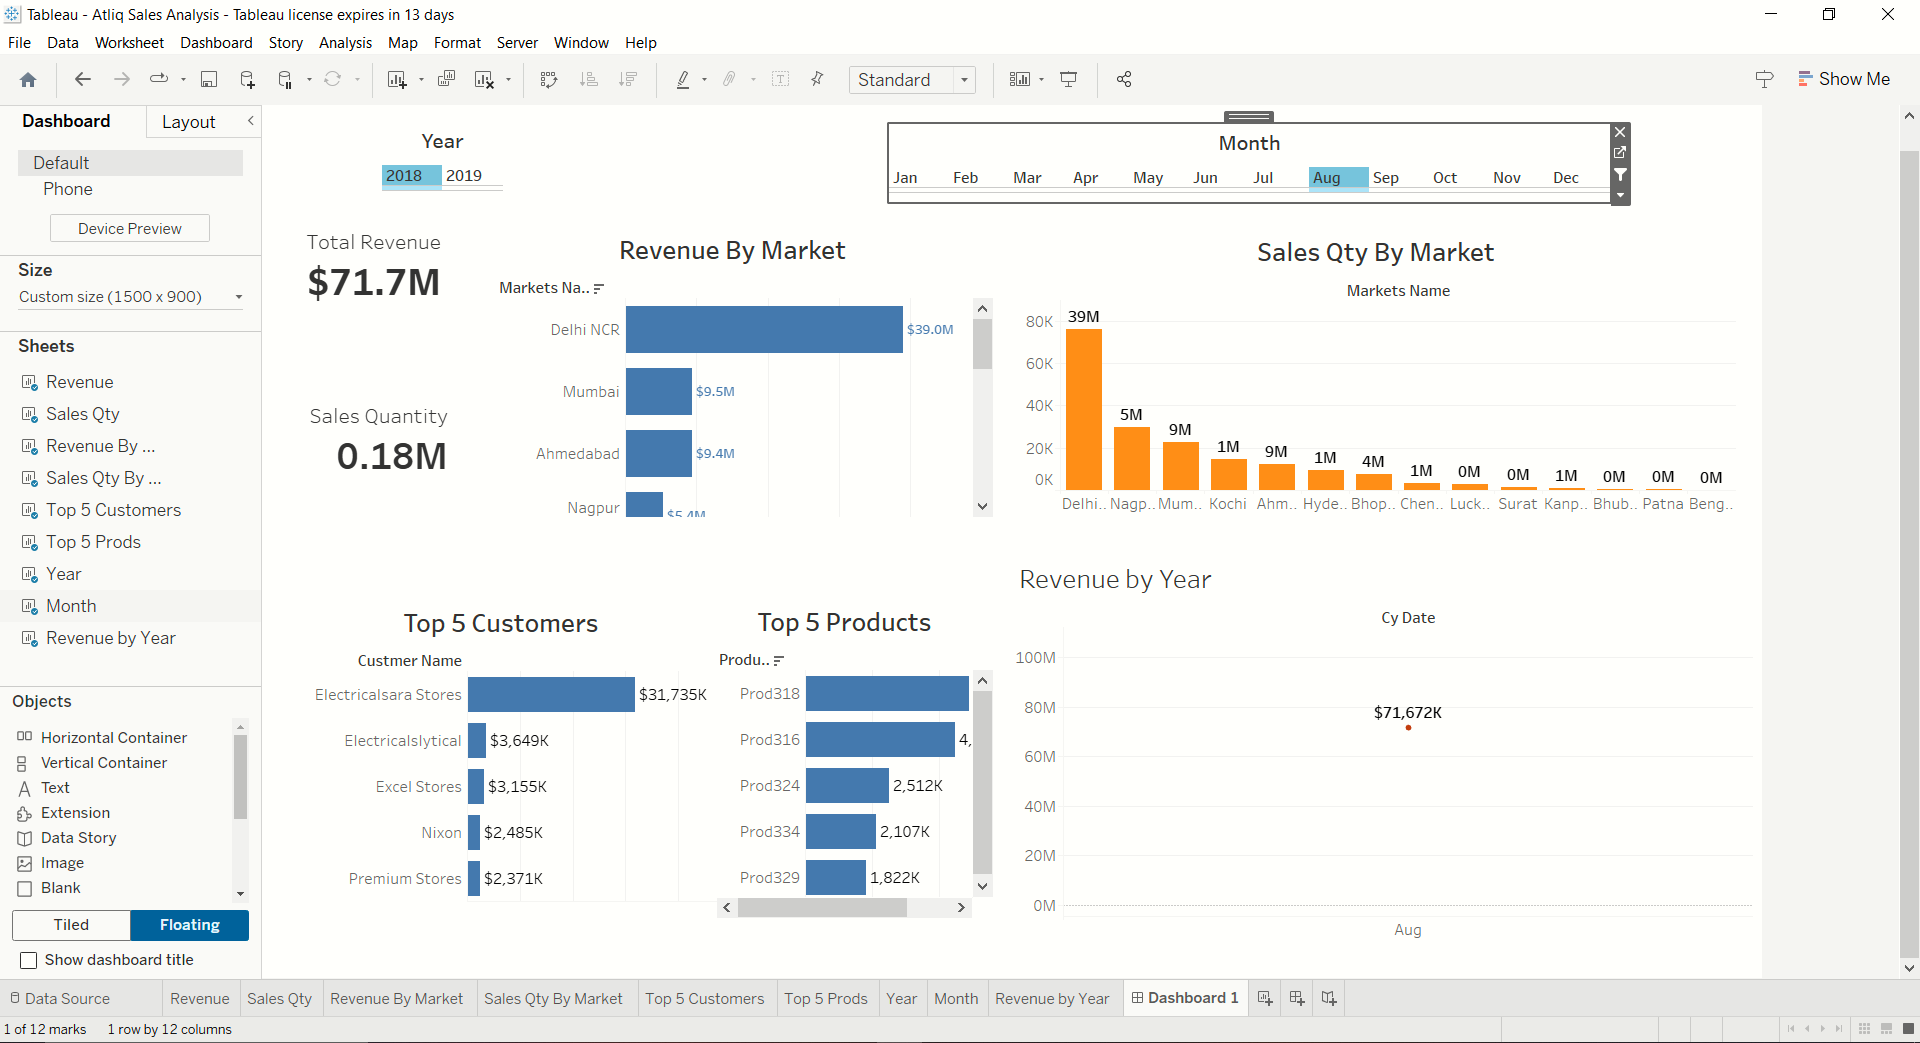

What the dashboard file says about the page in this screenshot:
{"tool":"tableau","page":{"name":"Dashboard 1","canvas":[1500,900],"ordinal":0},"visuals":[{"type":"worksheet","title":"Year","mark":"Automatic","cols":["cy_date"],"box":[120,44,246,79]},{"type":"worksheet","title":"Month","mark":"Automatic","cols":["cy_date"],"box":[627,46,721,78]},{"type":"worksheet","title":"Revenue","mark":"Automatic","box":[23,149,184,84]},{"type":"worksheet","title":"Revenue By Market","mark":"Automatic","rows":["markets_name"],"cols":["Calculation_289356319316553728"],"box":[231,150,500,289]},{"type":"worksheet","title":"Sales Qty By Market","mark":"Automatic","rows":["sales_qty"],"cols":["markets_name"],"box":[754,152,720,294]},{"type":"worksheet","title":"Sales Qty","mark":"Automatic","box":[30,323,164,79]},{"type":"worksheet","title":"Revenue by Year","mark":"Automatic","rows":["Calculation_289356319316553728"],"cols":["cy_date"],"box":[753,479,738,397]},{"type":"worksheet","title":"Top 5 Prods","mark":"Automatic","rows":["product_code"],"cols":["Calculation_289356319316553728"],"box":[455,522,276,318]},{"type":"worksheet","title":"Top 5 Customers","mark":"Automatic","rows":["custmer_name"],"cols":["Calculation_289356319316553728"],"box":[21,523,436,314]}]}

Visuals, with their boxes on the page's 1500x900 design canvas (x1, y1, x2, y2). These are canvas units, not pixel positions in the 1920x1043 screenshot, which may show the page scaled, cropped or inside an application window:
"Year" worksheet: {"x1": 120, "y1": 44, "x2": 366, "y2": 123}
"Month" worksheet: {"x1": 627, "y1": 46, "x2": 1348, "y2": 124}
"Revenue" worksheet: {"x1": 23, "y1": 149, "x2": 207, "y2": 233}
"Revenue By Market" worksheet: {"x1": 231, "y1": 150, "x2": 731, "y2": 439}
"Sales Qty By Market" worksheet: {"x1": 754, "y1": 152, "x2": 1474, "y2": 446}
"Sales Qty" worksheet: {"x1": 30, "y1": 323, "x2": 194, "y2": 402}
"Revenue by Year" worksheet: {"x1": 753, "y1": 479, "x2": 1491, "y2": 876}
"Top 5 Prods" worksheet: {"x1": 455, "y1": 522, "x2": 731, "y2": 840}
"Top 5 Customers" worksheet: {"x1": 21, "y1": 523, "x2": 457, "y2": 837}
